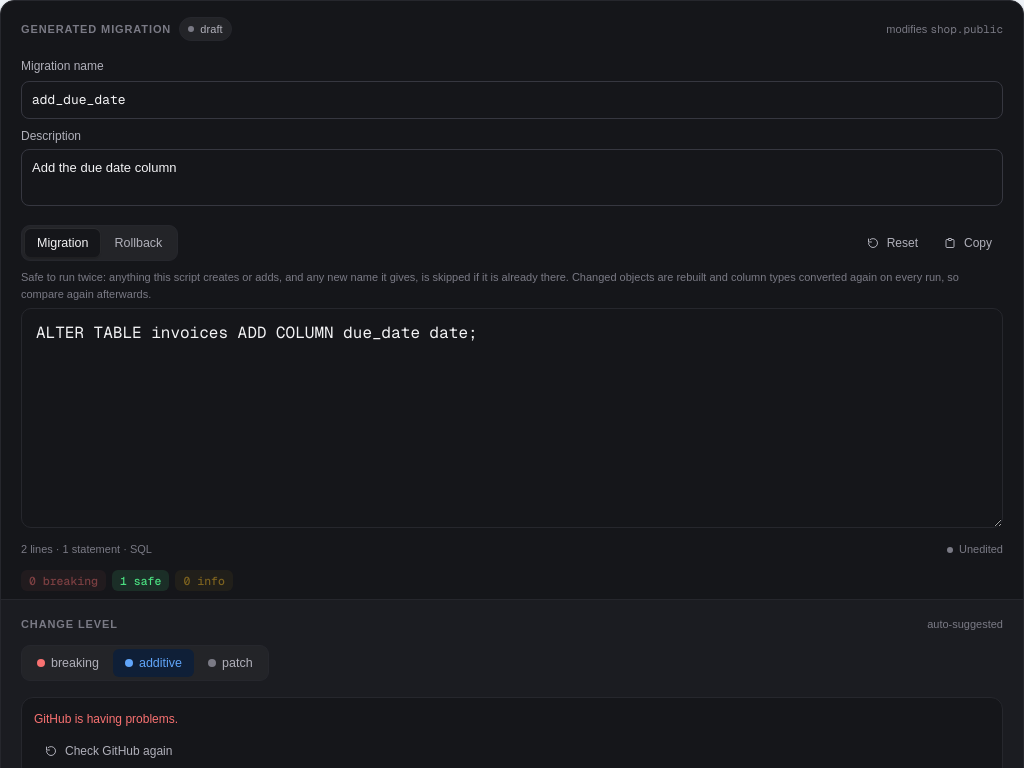
Test: the two reads behind the next version › offers to read GitHub again, and uses what comes back
Click the button "Check GitHub again": (109, 751) top-left (34, 736), bottom-right (183, 766)
(page scrolled)
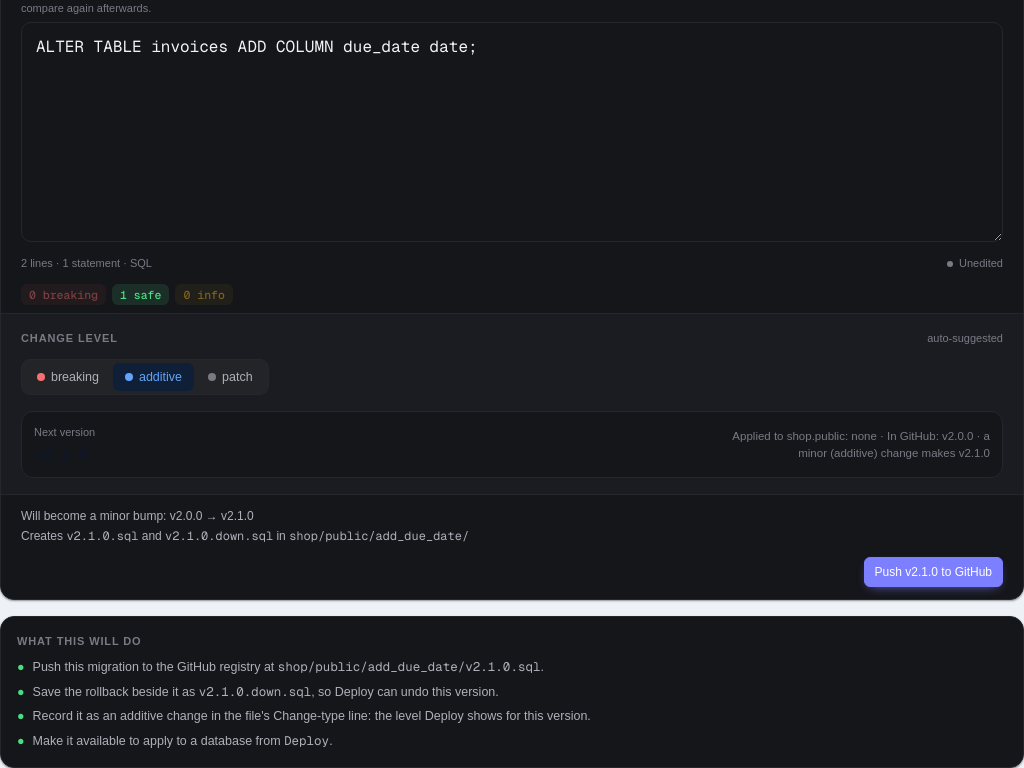
Result: the button "Push v2.1.0 to GitHub" is shown at top-left (864, 557), bottom-right (1003, 587)
